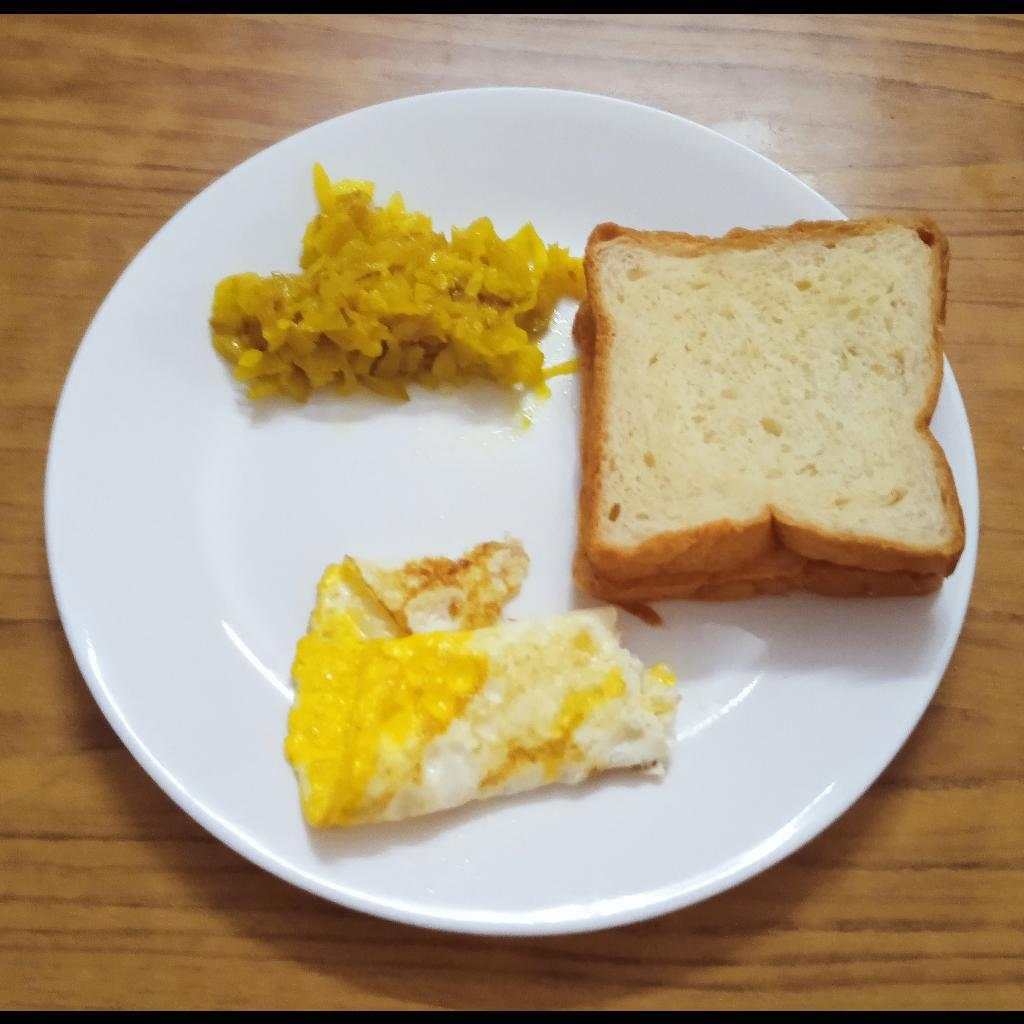bread: (570, 213, 971, 629)
egg-poached: (284, 536, 677, 830)
vegetable: (211, 167, 588, 412)
